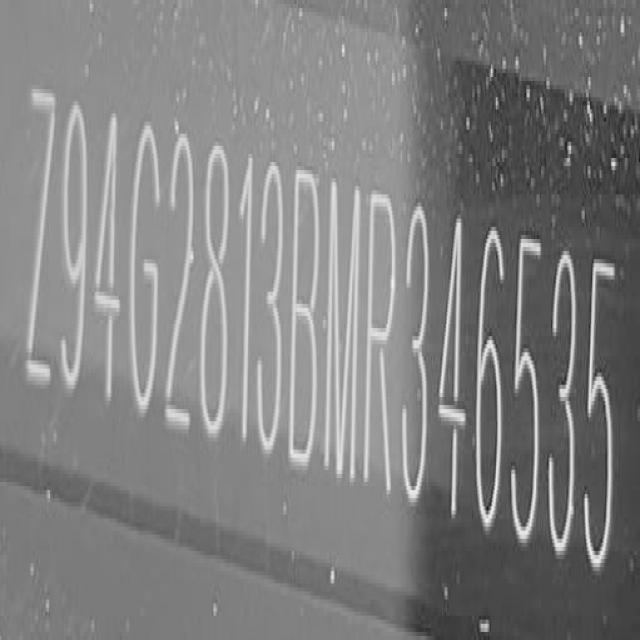1: (237, 146, 252, 449)
2: (166, 123, 197, 434)
3: (402, 196, 433, 511), (549, 244, 577, 568), (256, 150, 284, 467)
4: (94, 100, 126, 408), (438, 204, 466, 518)
5: (588, 249, 620, 582), (512, 228, 542, 560)
6: (474, 219, 502, 542)
8: (201, 139, 232, 445)
9: (61, 90, 89, 400)
B: (292, 163, 322, 476)
G: (128, 113, 162, 426)
M: (326, 174, 361, 486)
R: (366, 182, 398, 494)
Z: (25, 77, 57, 395)
